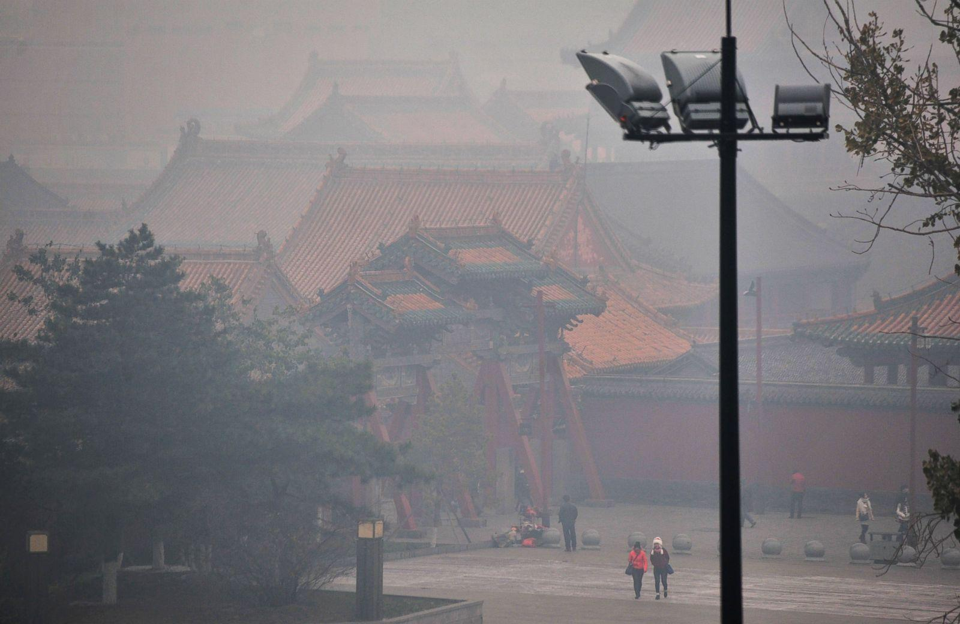person: (649, 537, 674, 600), (896, 484, 920, 539), (627, 541, 649, 600), (558, 494, 579, 553), (855, 490, 875, 545), (734, 483, 758, 528), (894, 492, 914, 546), (787, 469, 806, 520), (513, 469, 534, 514)
